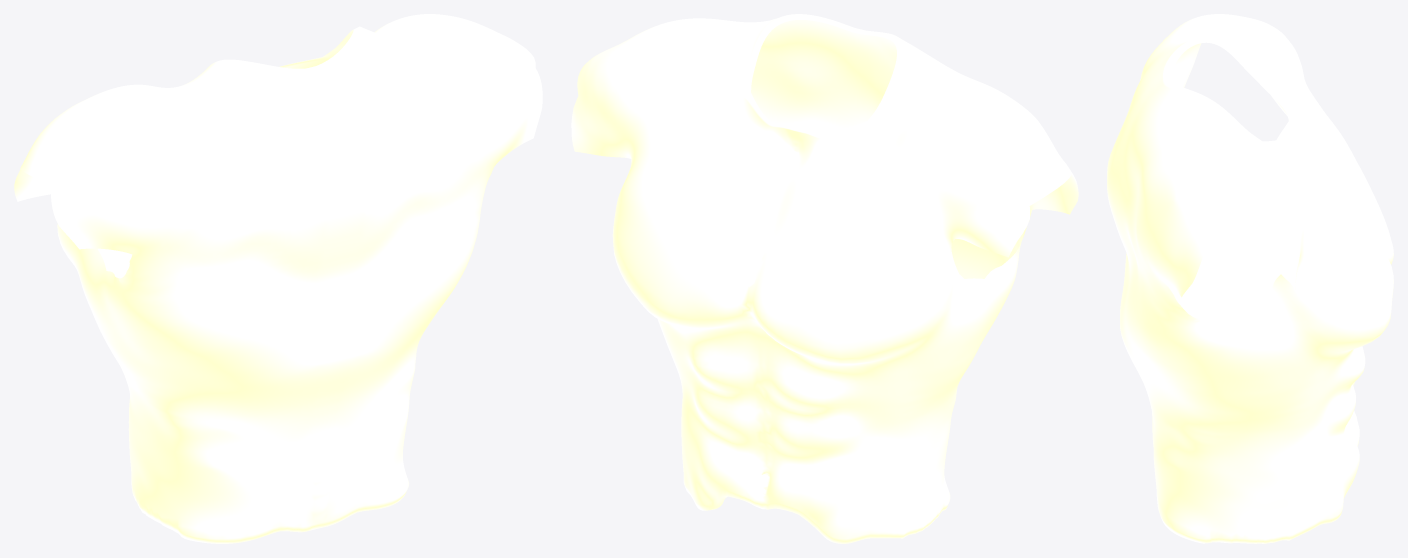
File: Atlantean_ChestPlate.fbx
3 renders of one model, left to right at view 1: azimuth 30°, elevation 25°; view 2: azimuth 150°, elevation 25°; view 3: azimuth 270°, elevation 25°, orthographic. The views are drawn at different scales.
Parts seen in each view (by area): view 1: human_male_base03.003; view 2: human_male_base03.003; view 3: human_male_base03.003.
Part boxes in pixels (left/top/right/bottom): human_male_base03.003: left=14, top=14, right=542, bottom=543; human_male_base03.003: left=571, top=14, right=1078, bottom=543; human_male_base03.003: left=1107, top=14, right=1393, bottom=543.
Bounding box in the file's own units: 1815 × 1636 × 986.
